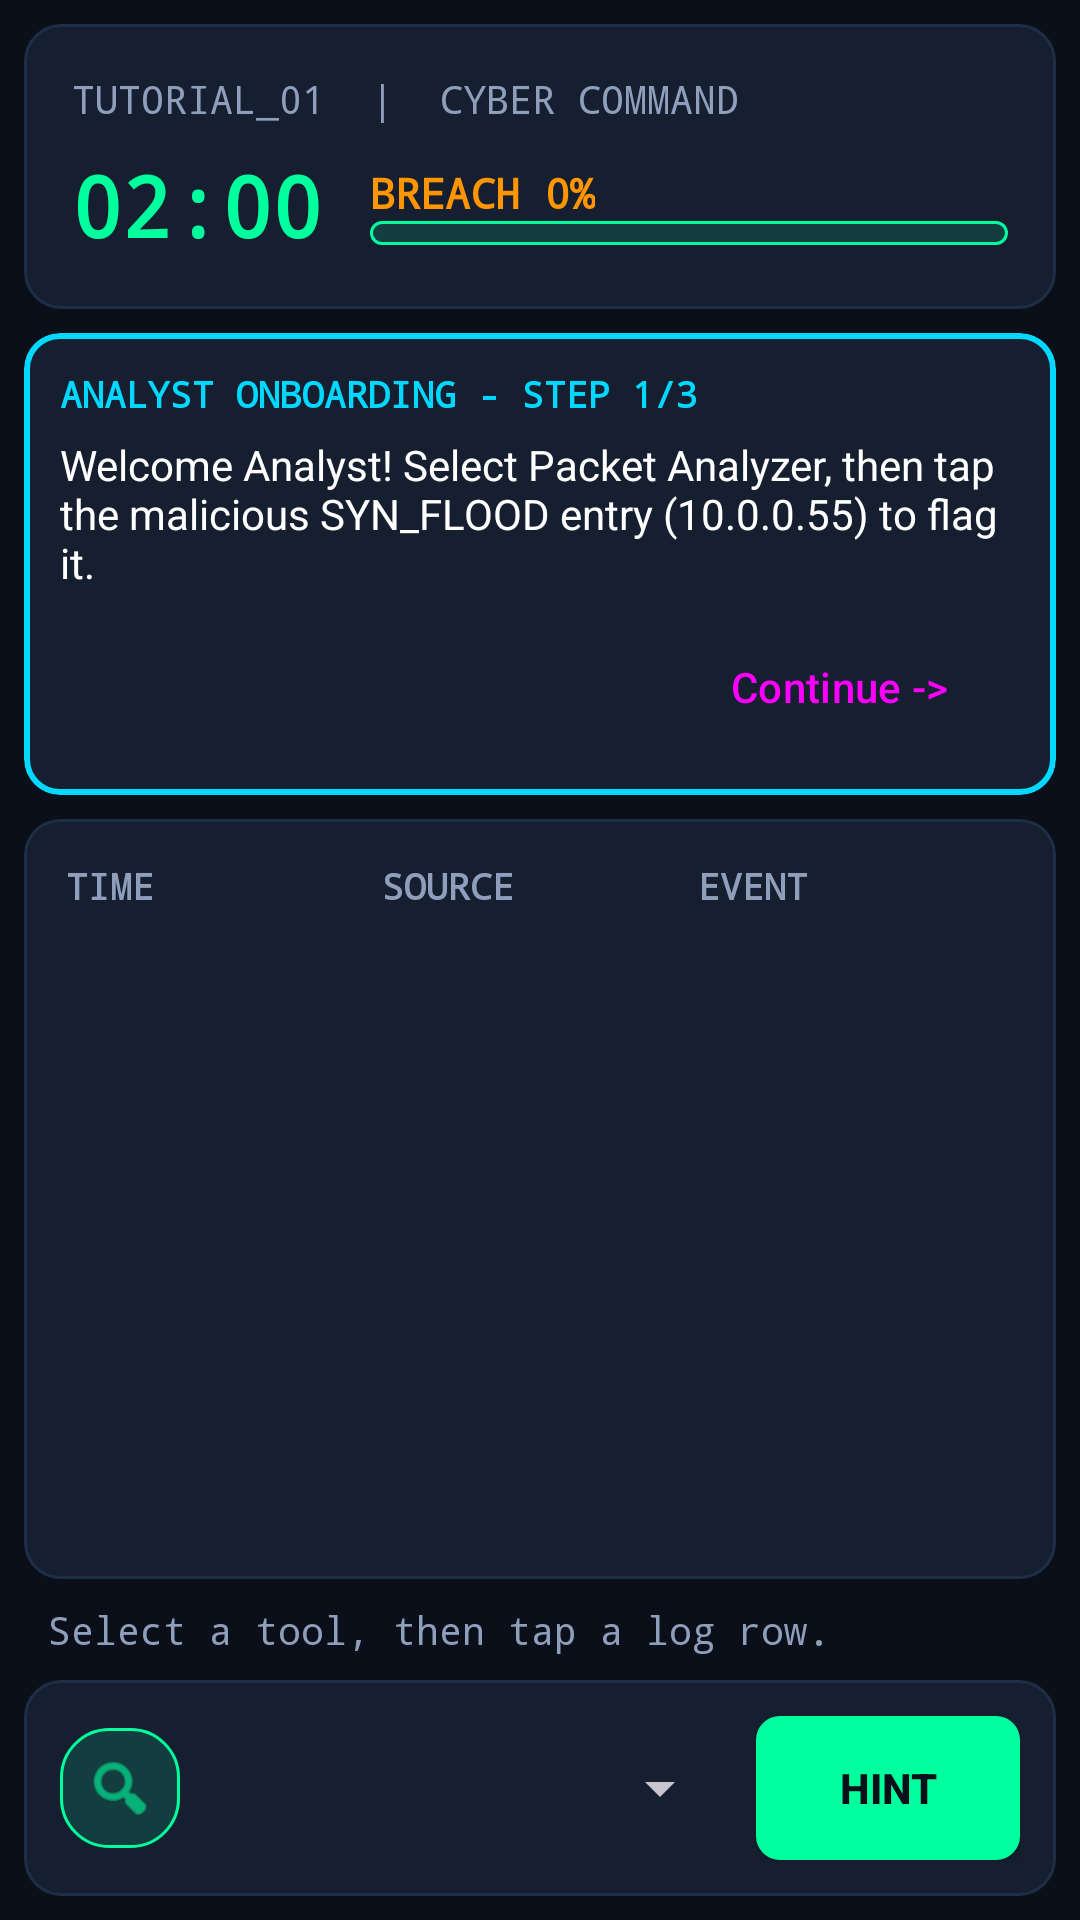

Screen size 1080w x 1920h. Icon name, then its box in pixels as (x1, y1, x2, y2):
search: (60, 1728, 180, 1848)
